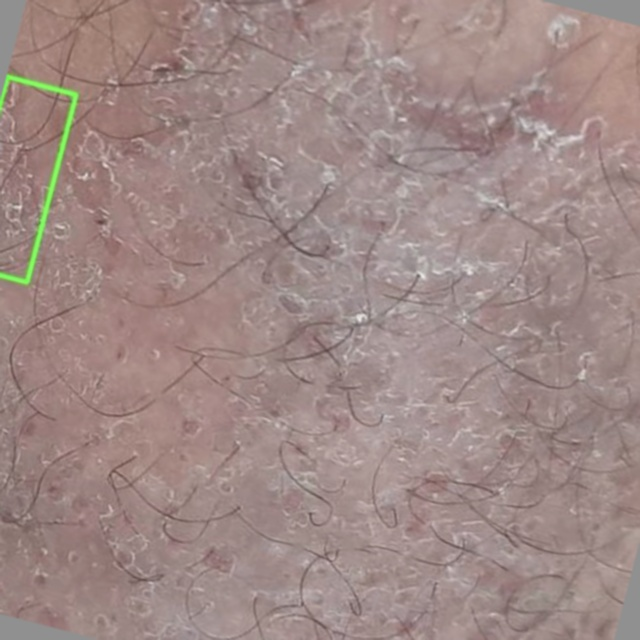Eczema: (0, 76, 76, 282)
